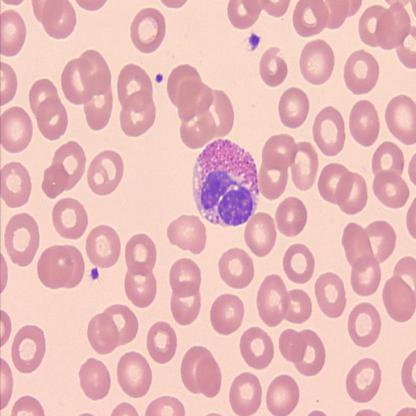Eosinophil: (193, 138, 259, 226)
